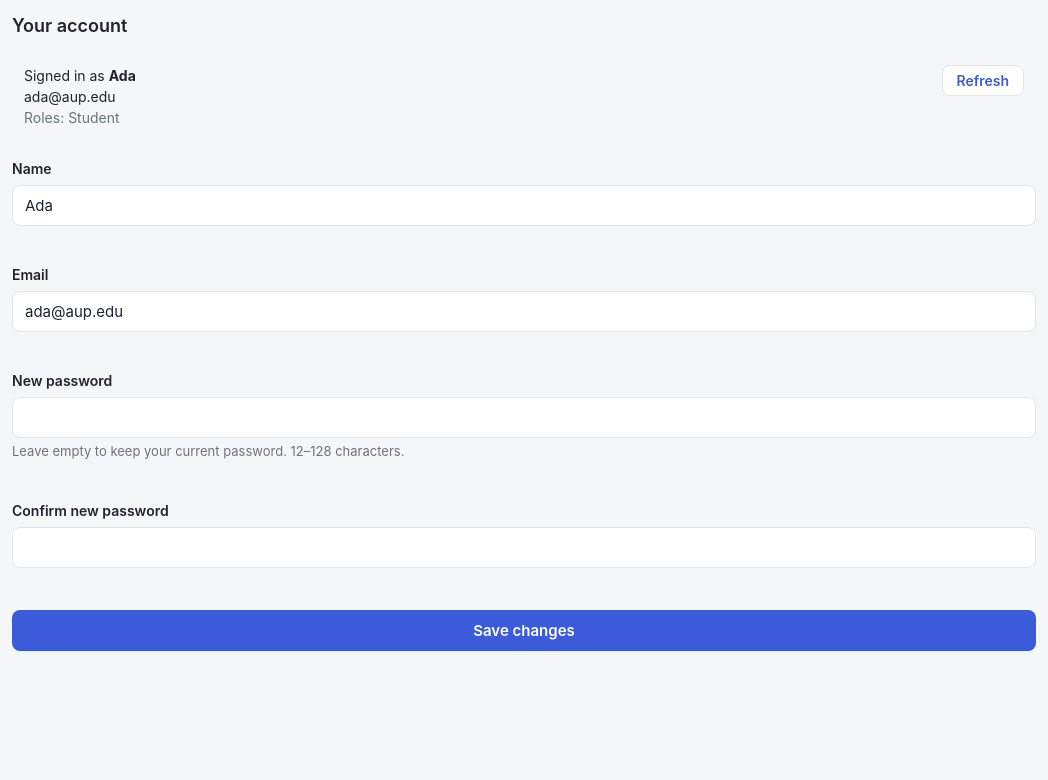
Test: Saving changes (QB-47) › does not send a request when nothing changed
What coordinates should you click on to do the following:
click the button "Save changes"
I would click on:
 (524, 630)
Its box is [12,610,1036,650].
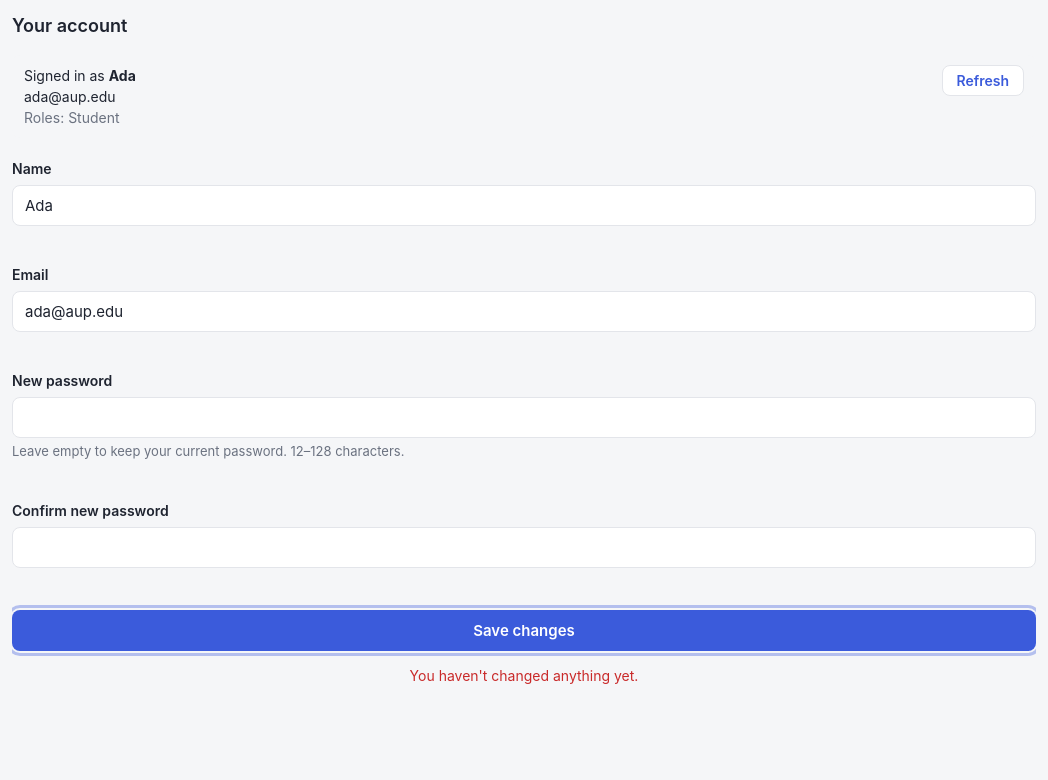
Check: the message reads "You haven't changed anything yet.", box [410,666,638,684]
